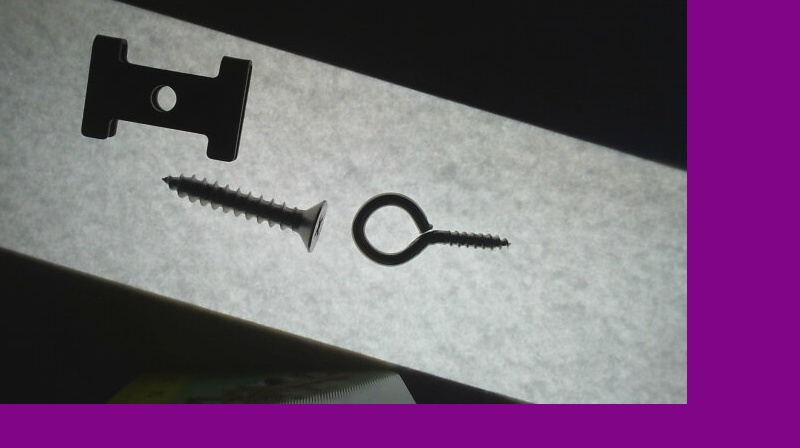O001: (347, 187, 514, 266)
O002: (77, 30, 252, 163)
S001: (157, 169, 329, 252)
